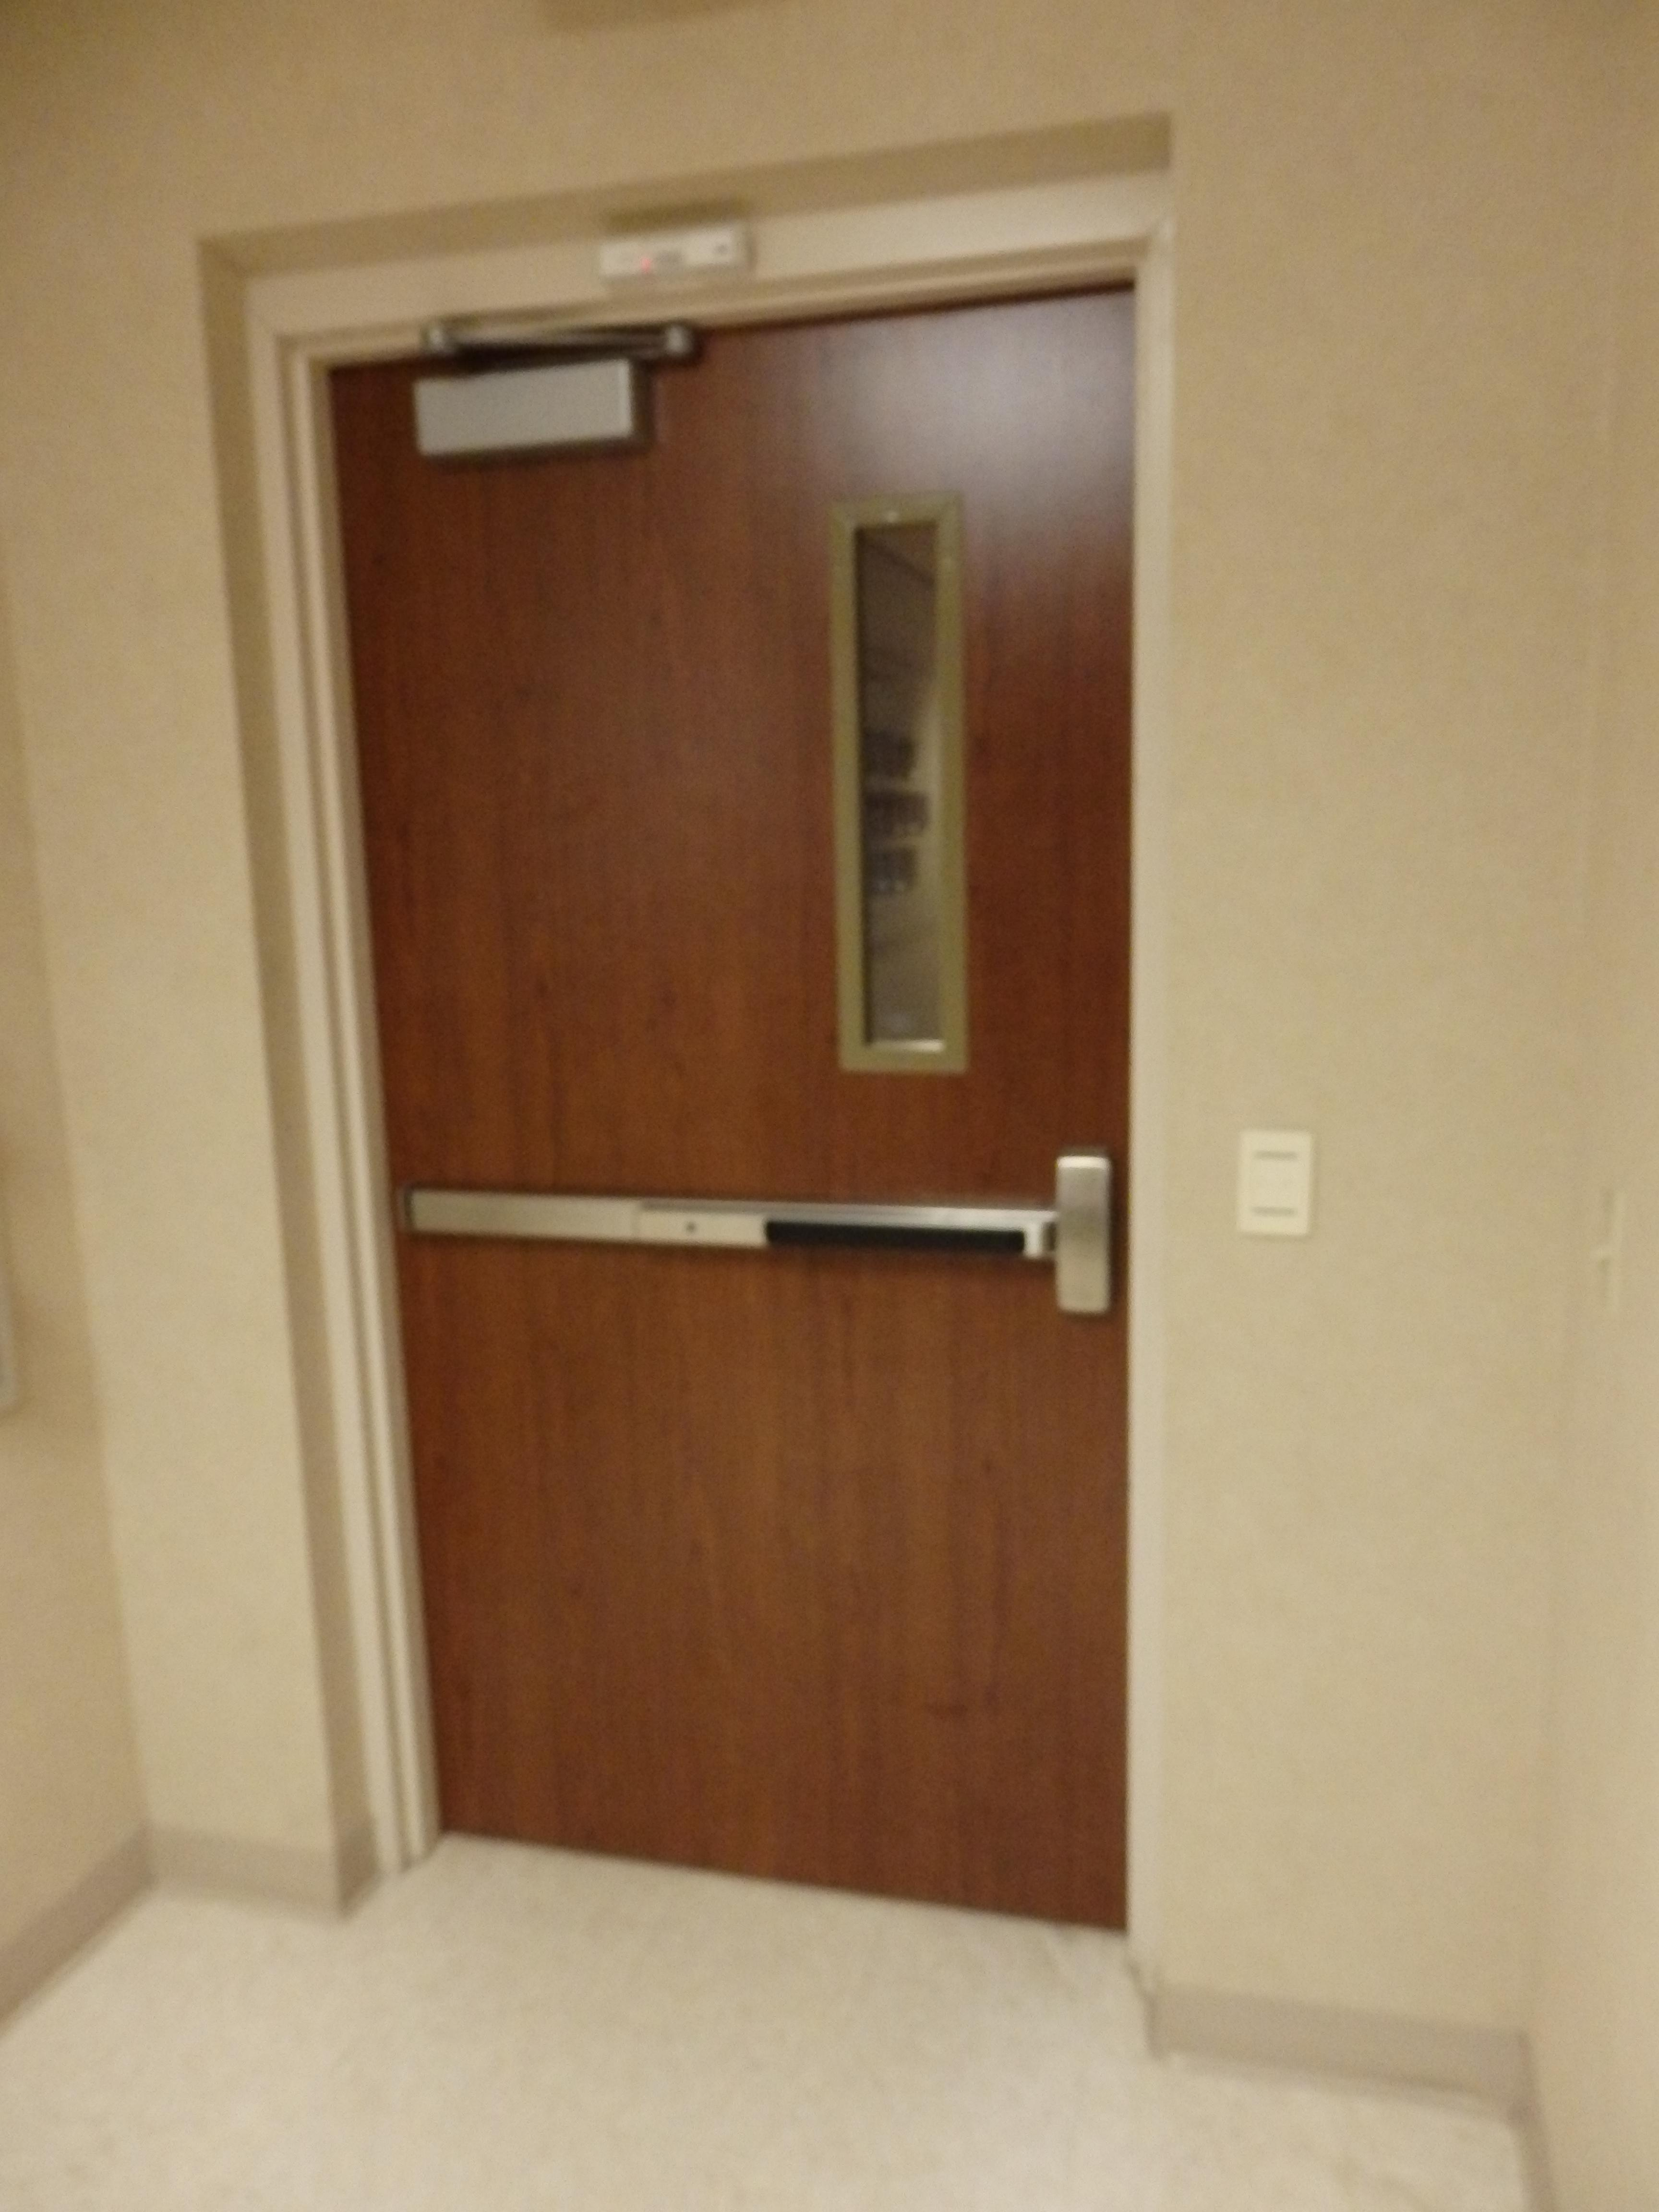door: (242, 165, 1169, 1987)
